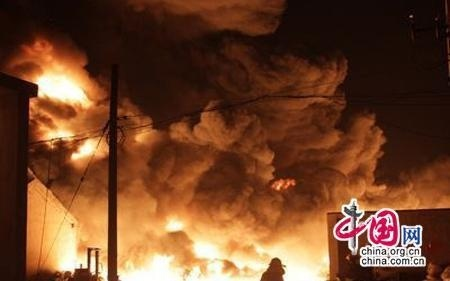fire: (31, 67, 93, 105), (270, 174, 296, 189)
